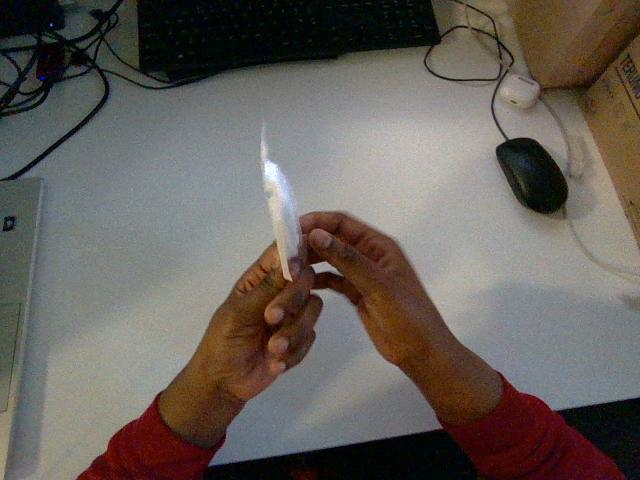gauze: (261, 124, 301, 280)
